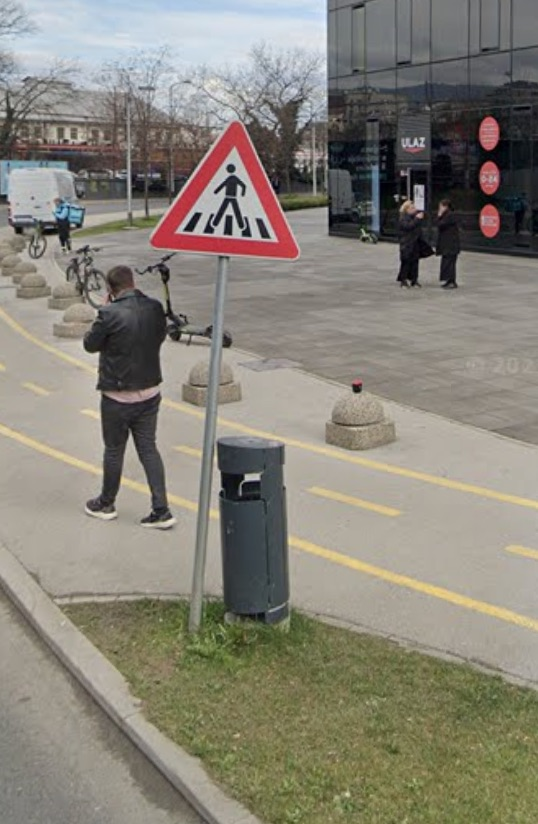Približavanje pješačkom prijelazu: (150, 120, 303, 262)
